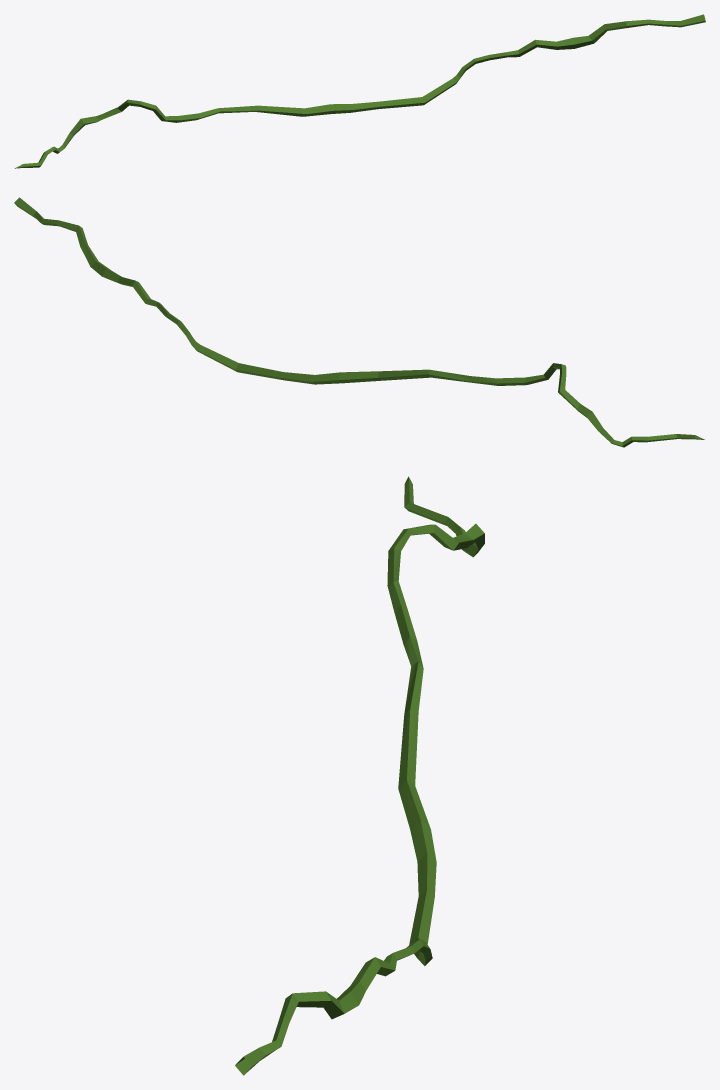
Rendered from ZLPC_Plant_Vine_B_6.FBX.
The picture shows the model from 3 angles, top to bottom: view 1: azimuth 30°, elevation 25°; view 2: azimuth 150°, elevation 25°; view 3: azimuth 270°, elevation 25°; orthographic projection. The views are drawn at different scales.
Parts seen in each view (by area): view 1: ZLPC_Plant_Vine_B_6; view 2: ZLPC_Plant_Vine_B_6; view 3: ZLPC_Plant_Vine_B_6.
Boxes of the visible parts, box(x1,y1,x2,y2) form: ZLPC_Plant_Vine_B_6: box(14, 14, 705, 168); ZLPC_Plant_Vine_B_6: box(14, 197, 704, 447); ZLPC_Plant_Vine_B_6: box(235, 476, 484, 1075).
Bounding box in the file's own units: 1130 × 124 × 188.
